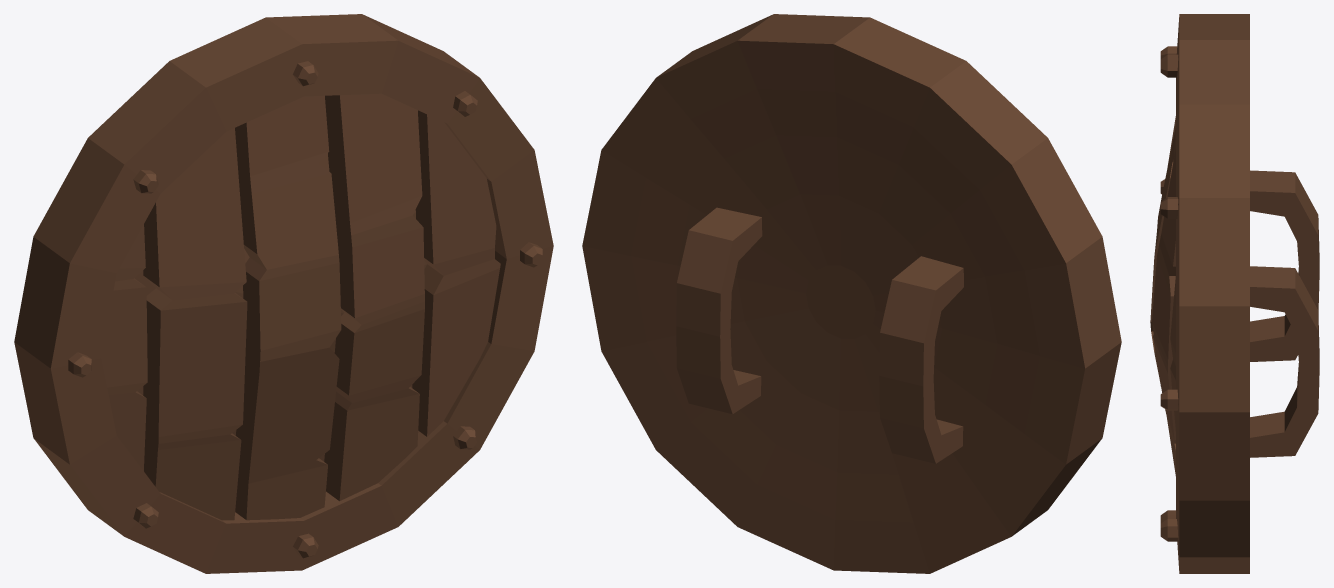
The model's file is Shield_Round.glb.
3 views of the same model, side by side, from view 1: azimuth 30°, elevation 25°; view 2: azimuth 150°, elevation 25°; view 3: azimuth 270°, elevation 25° (orthographic). The views are drawn at different scales.
Size of the model in its own units: 2 by 2 by 0.6037.
